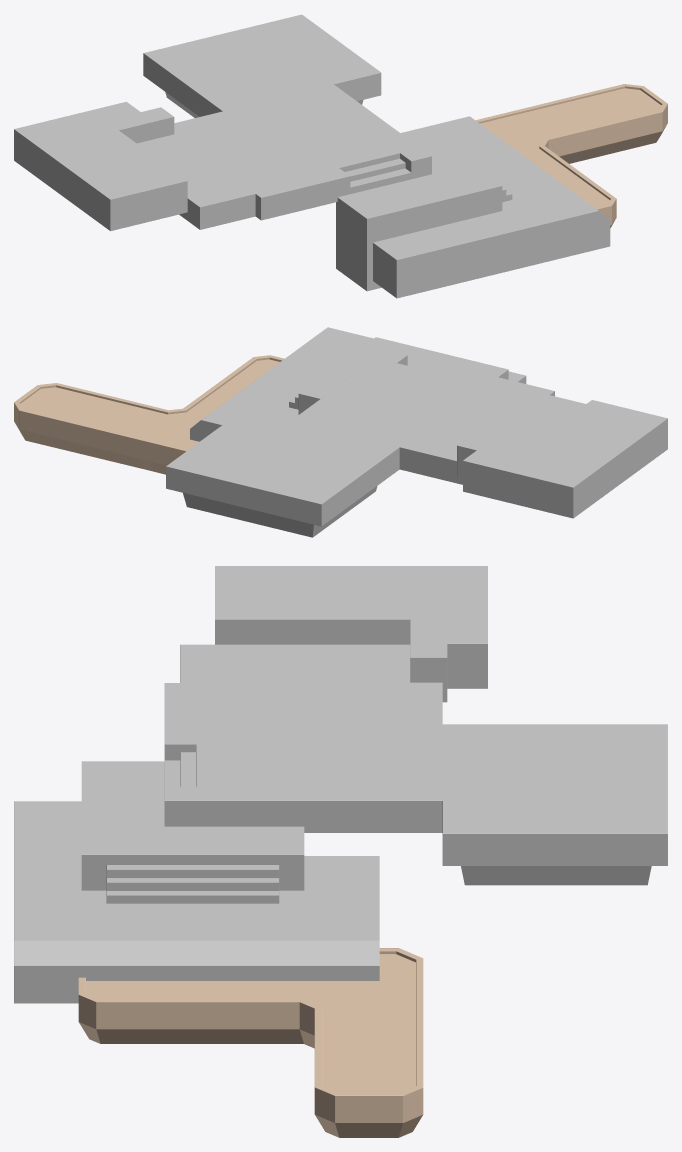
The model's file is Isla3_UV.fbx.
3 renders of one model, top to bottom at view 1: azimuth 30°, elevation 25°; view 2: azimuth 150°, elevation 25°; view 3: azimuth 270°, elevation 25°, orthographic. The views are drawn at different scales.
Parts seen in each view (by area): view 1: Cube.079, Cube.094, Cube.078, Cube.095, Cube.093; view 2: Cube.079, Cube.078, Cube.095, Cube.094, Cube.093; view 3: Cube.079, Cube.094, Cube.095, Cube.078, Cube.093, Cube.096.
Boxes of the visible parts, x1=… form: Cube.079: x1=137, y1=14, x2=431, y2=229; Cube.094: x1=373, y1=116, x2=610, y2=298; Cube.078: x1=14, y1=101, x2=187, y2=231; Cube.095: x1=476, y1=84, x2=667, y2=227; Cube.093: x1=336, y1=128, x2=502, y2=291; Cube.079: x1=166, y1=350, x2=585, y2=537; Cube.078: x1=457, y1=400, x2=667, y2=518; Cube.095: x1=14, y1=355, x2=284, y2=474; Cube.094: x1=190, y1=327, x2=526, y2=441; Cube.093: x1=298, y1=337, x2=508, y2=414; Cube.079: x1=164, y1=644, x2=667, y2=885; Cube.094: x1=14, y1=801, x2=379, y2=1003; Cube.095: x1=78, y1=948, x2=423, y2=1137; Cube.078: x1=215, y1=566, x2=487, y2=702; Cube.093: x1=81, y1=761, x2=304, y2=890; Cube.096: x1=106, y1=865, x2=279, y2=903.
Size of the model in its own units: 3975 by 723 by 2650.
